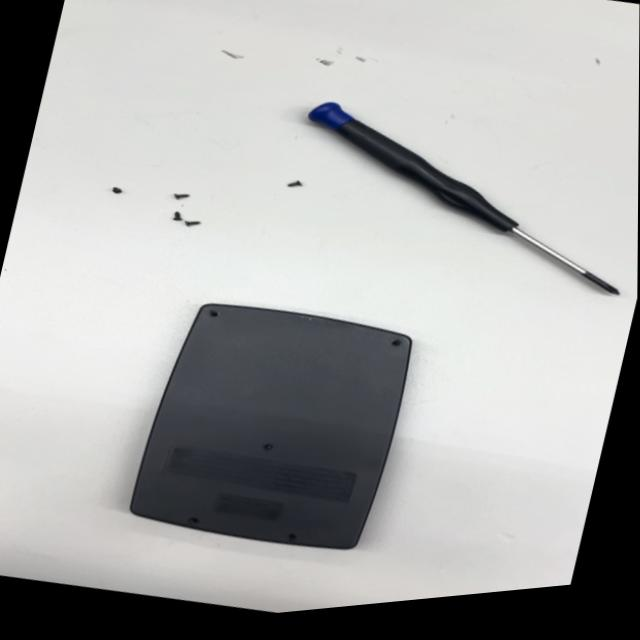back_cover: (120, 267, 427, 583)
screw: (284, 171, 308, 193), (165, 186, 188, 206), (165, 204, 188, 224), (179, 215, 201, 233), (104, 183, 124, 198)
screw_driver: (276, 62, 639, 328)
